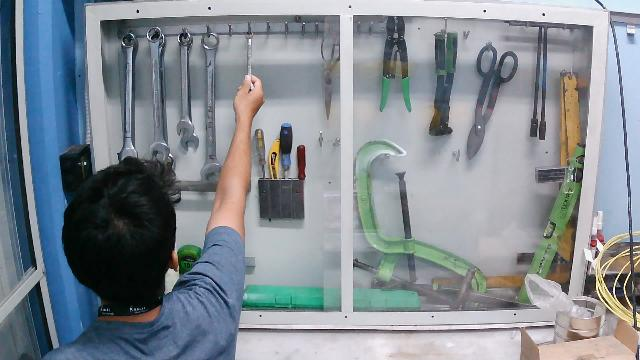water_pass: (236, 22, 267, 104)
